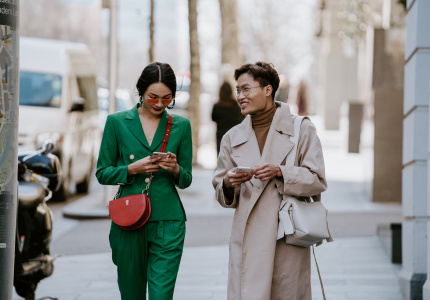Person: (212, 62, 326, 299), (95, 61, 192, 299)
